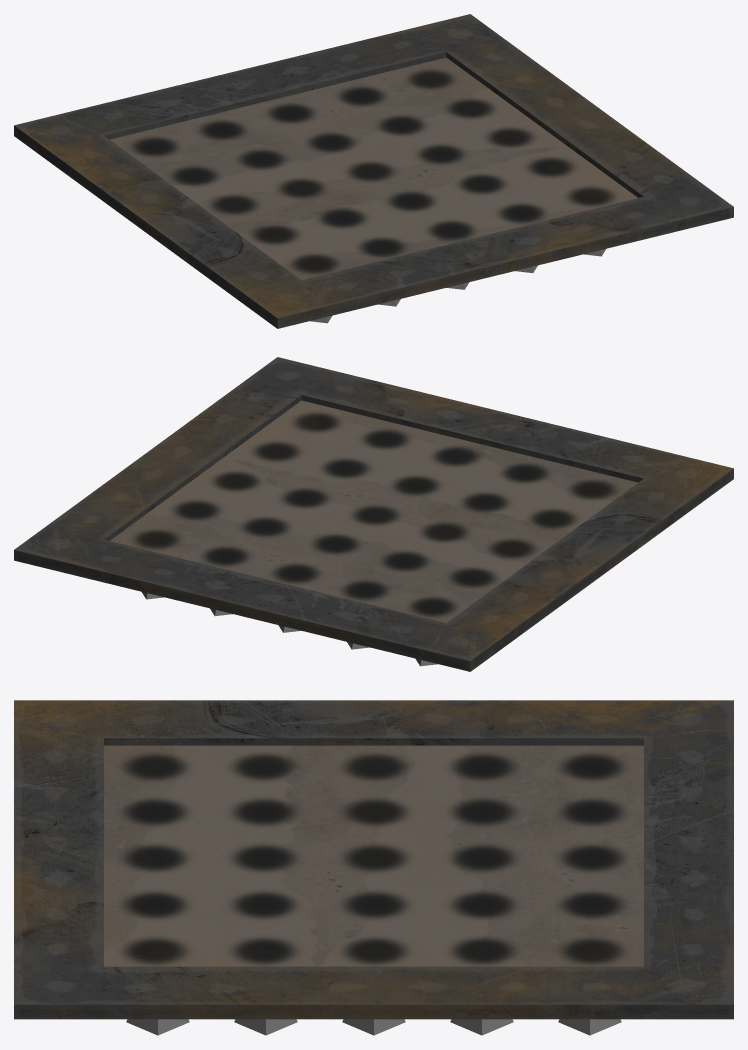
The model's file is spike.fbx.
3 renders of one model, top to bottom at view 1: azimuth 30°, elevation 25°; view 2: azimuth 150°, elevation 25°; view 3: azimuth 270°, elevation 25°, orthographic. The views are drawn at different scales.
Visible parts, largest first — view 1: pPlane2; view 2: pPlane2; view 3: pPlane2, polySurface40.
Part boxes in pixels (x1,y1,x2,y2): pPlane2: (14, 14, 733, 328); pPlane2: (14, 357, 733, 671); pPlane2: (14, 700, 733, 1019); polySurface40: (126, 1019, 621, 1035).
Bounding box in the file's own units: 8 × 0.9609 × 8.
